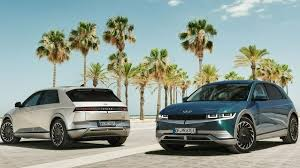Honda Ioniq: (154, 75, 299, 153), (1, 83, 133, 156)
